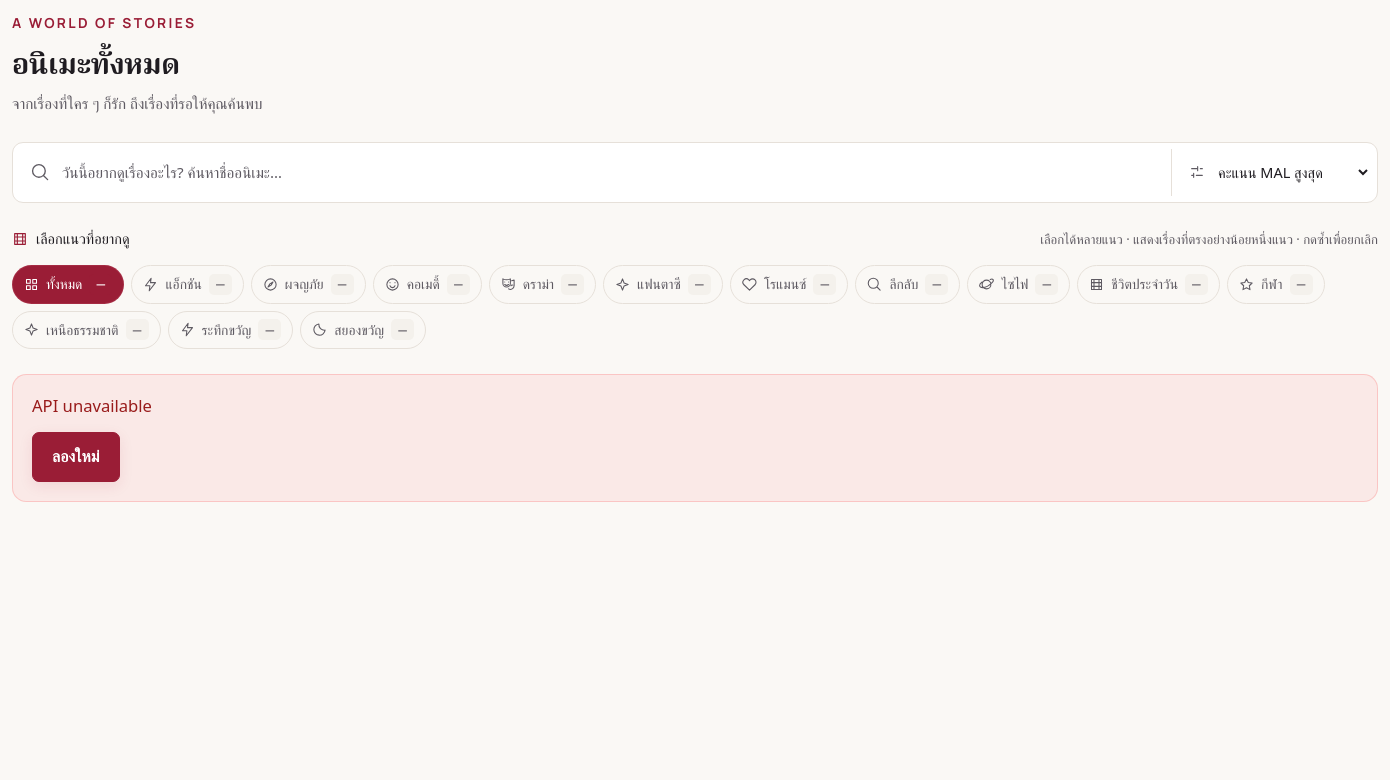
Test: failed loads stay distinct from an empty genre and can be retried
Expected: the message shows "API unavailable", [32, 394, 152, 417]
Click the button "แฟนตาซี —" at (663, 284), box [603, 265, 723, 304]
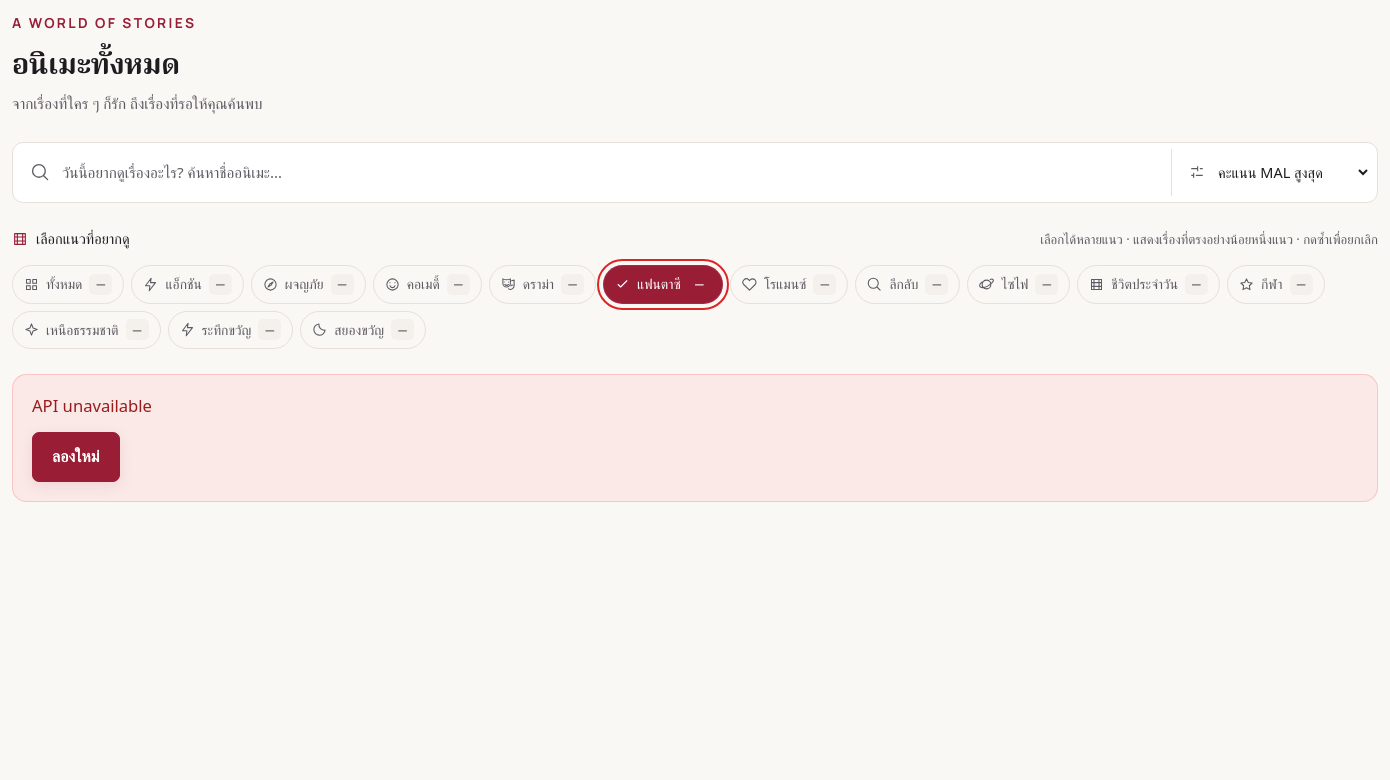
Expected: the message shows "API unavailable", [32, 394, 152, 417]
Click the button "ลองใหม่" at (76, 457), box [32, 432, 120, 482]
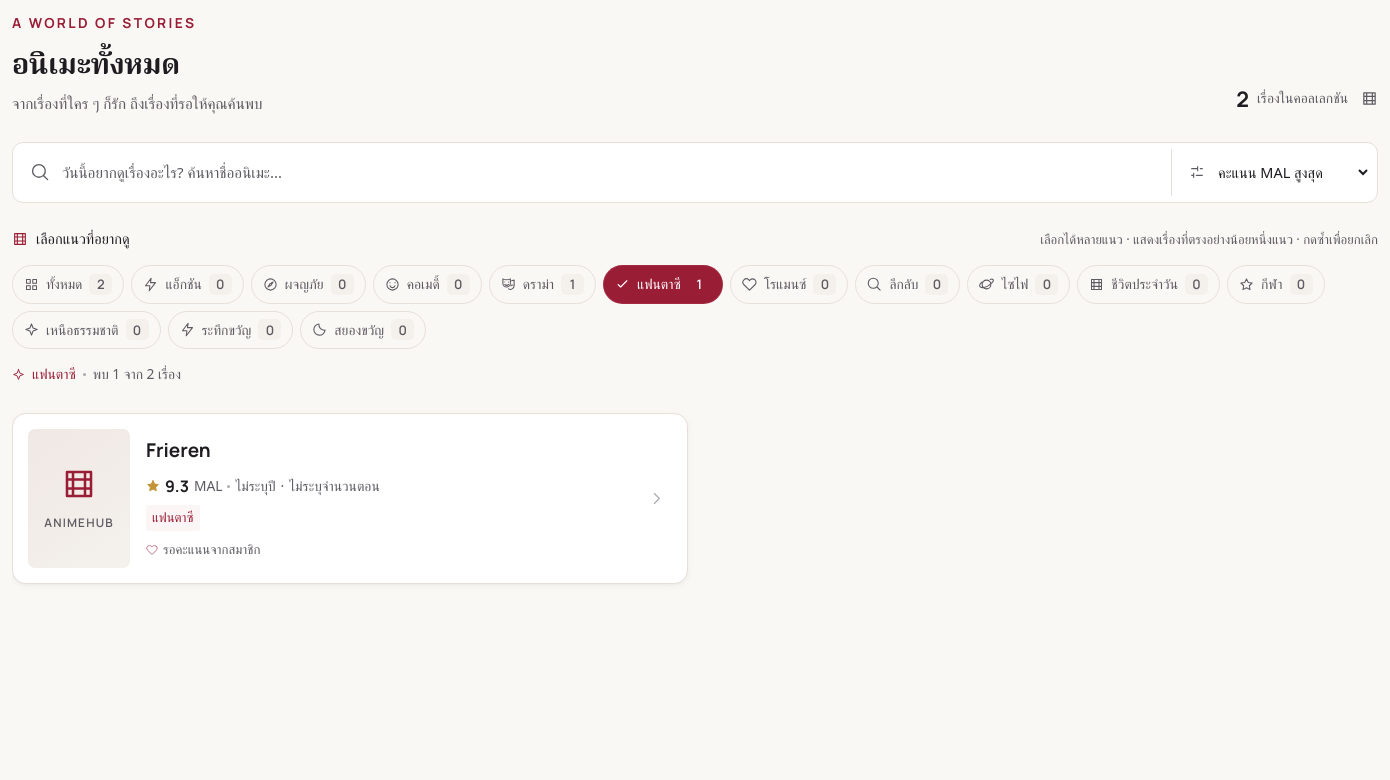
Expected: the heading "Frieren" is shown, [146, 437, 211, 463]
Expected: the button "แฟนตาซี 1" is shown, [603, 265, 723, 304]
